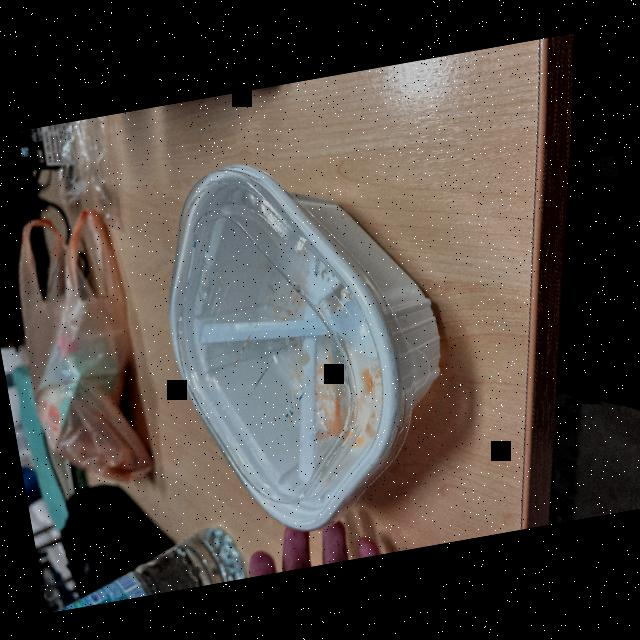plastic_box: (140, 123, 487, 554)
